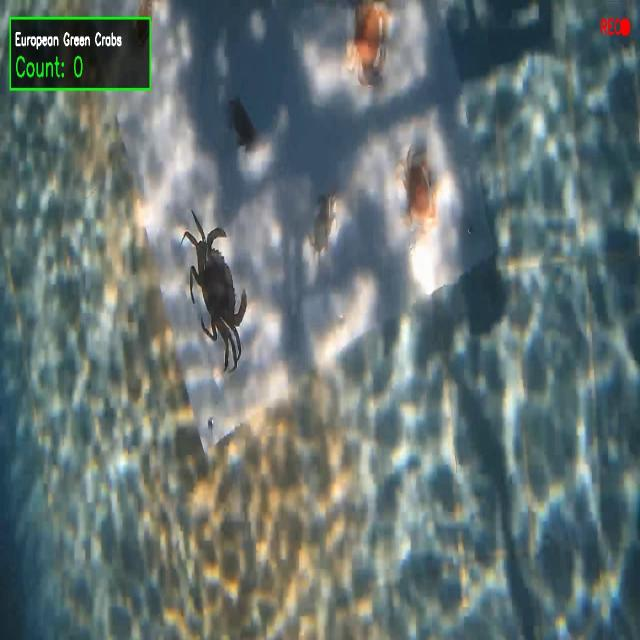European_Green_Crab: (174, 187, 263, 381), (302, 181, 345, 268)
